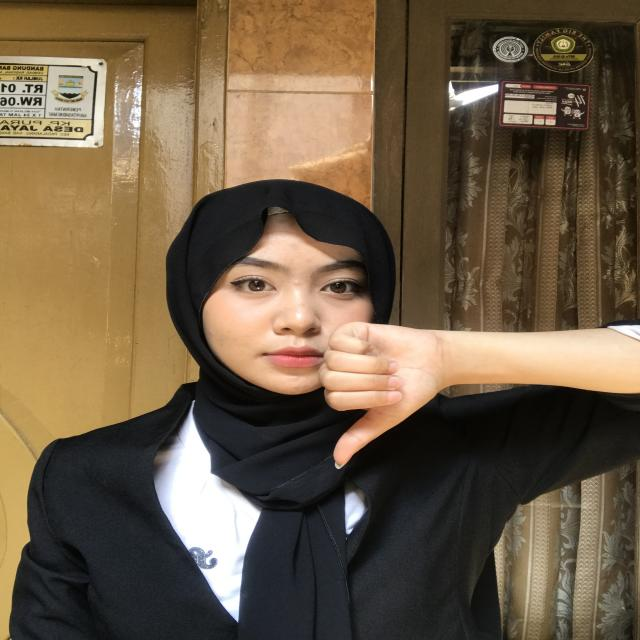sedih: (301, 304, 469, 476)
